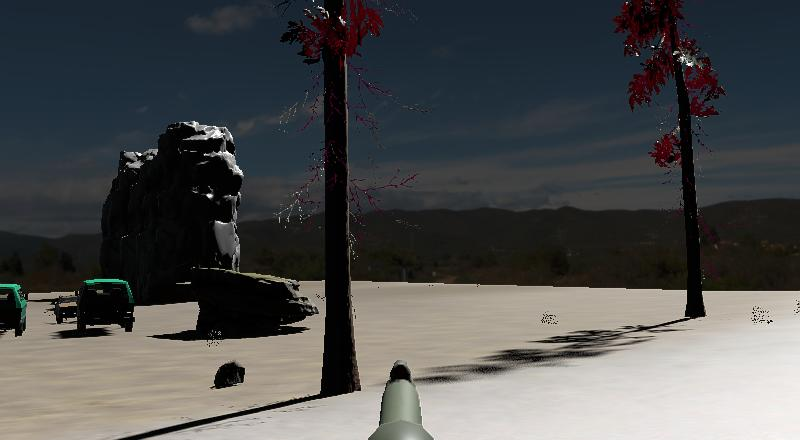car: (75, 277, 137, 335), (0, 281, 28, 338), (54, 293, 82, 324)
